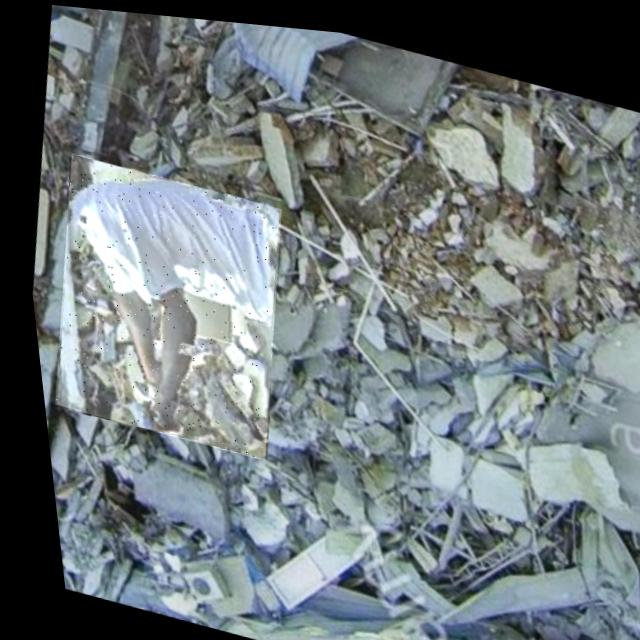Person in Rubble: (23, 147, 299, 458)
